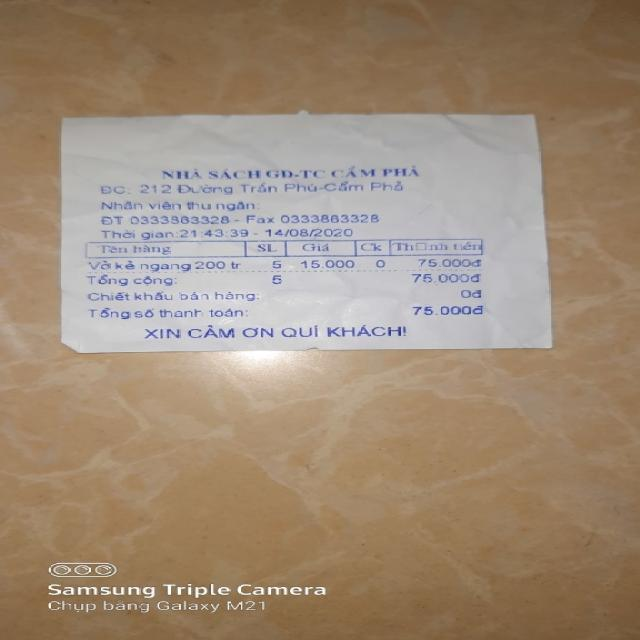Date: (266, 226, 355, 238)
Store_Name: (158, 165, 426, 179)
amount_number: (411, 305, 471, 317)
label_total: (85, 308, 244, 318)
